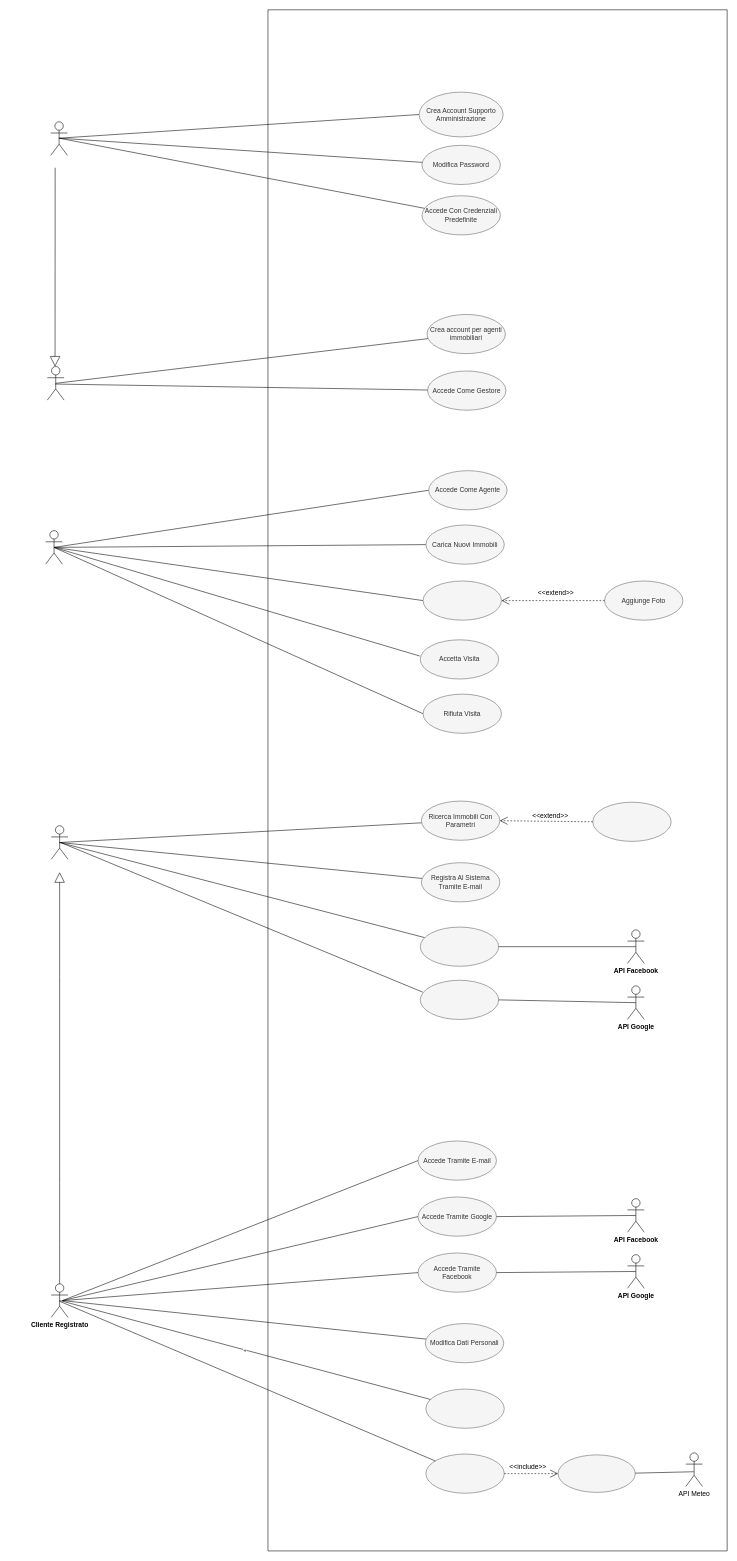
This 737x1561 diagram has some shape labels left out. Each missing label, with the centre of its shape:
Agente Immobiliare: [53,547]
Amministratore: [58,138]
Cliente: [59,842]
Gestore Azienda Immobiliare: [55,383]
Lascia Recensione Ad Agente: [464,1408]
Modifica Profilo Personale: [462,600]
Prenota Visita: [464,1473]
Registra Al Sistema Tramite Facebook: [459,946]
Registra Al Sistema Tramite Google: [459,999]
Ricerca Tramite Raggio: [631,821]
Visualizza Previsioni Meteo: [596,1473]
